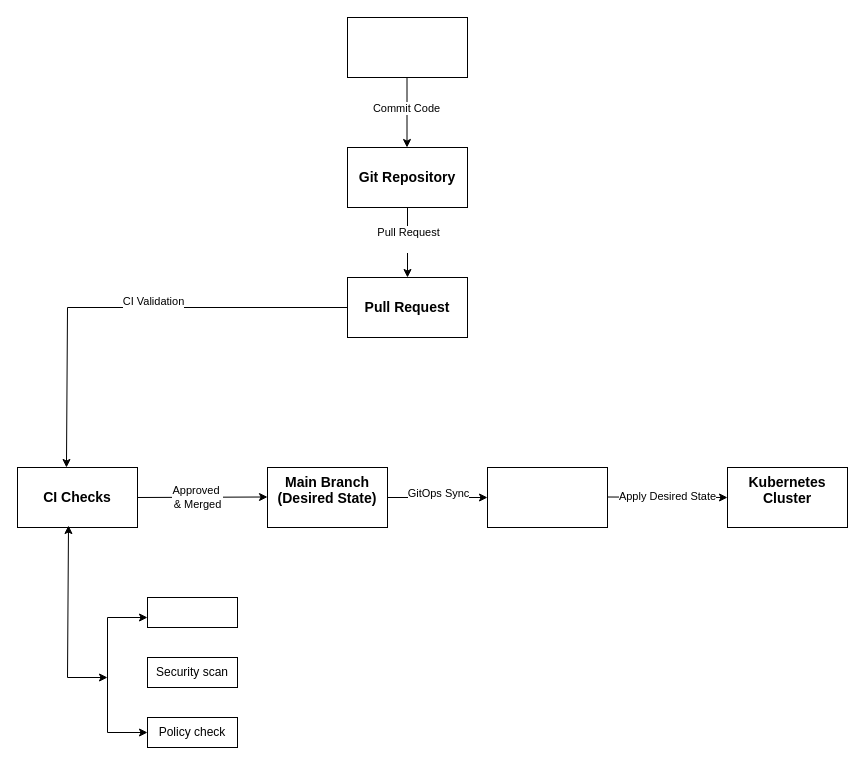
This 865x765 diagram has some shape labels left out. Here are the shapes that lost their labels. From the top down, the box of each, then its label:
(346, 16, 468, 78): Developer
(486, 466, 608, 528): ArgoCD
(146, 596, 238, 628): YAML validation
